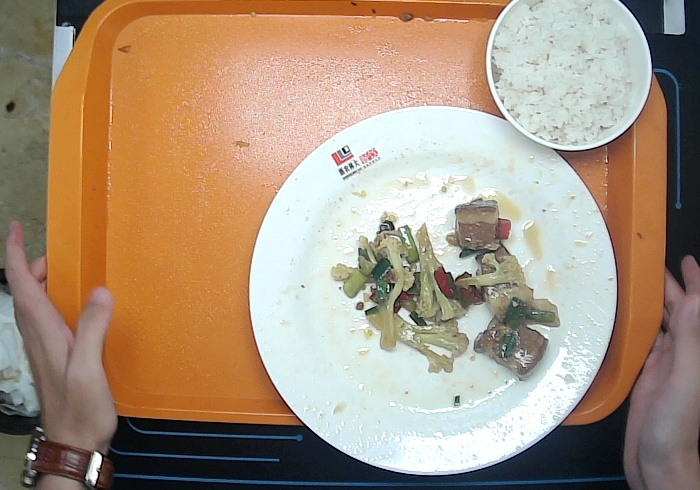ZNLD-Da_Yuan_Pan: (241, 102, 622, 483)
ZNLD-Fan_Wan: (481, 1, 662, 157)
